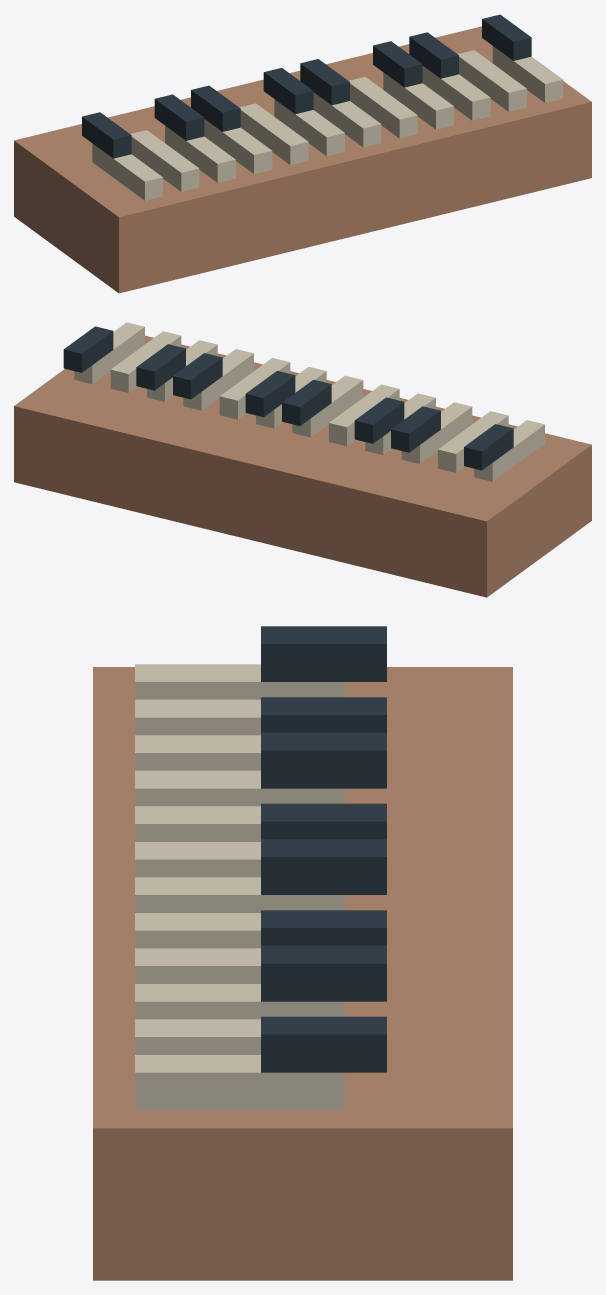
Rendered from music-06.glb.
3 views of the same model, one above another, from view 1: azimuth 30°, elevation 25°; view 2: azimuth 150°, elevation 25°; view 3: azimuth 270°, elevation 25° (orthographic). The views are drawn at different scales.
Visible parts, largest first — view 1: Synth keyboard; view 2: Synth keyboard; view 3: Synth keyboard.
Boxes of the visible parts, box(x1,y1,x2,y2) form: Synth keyboard: box(14, 14, 591, 293); Synth keyboard: box(14, 322, 591, 597); Synth keyboard: box(93, 626, 512, 1280).
Size of the model in its own units: 2.08 by 0.48 by 0.8.
